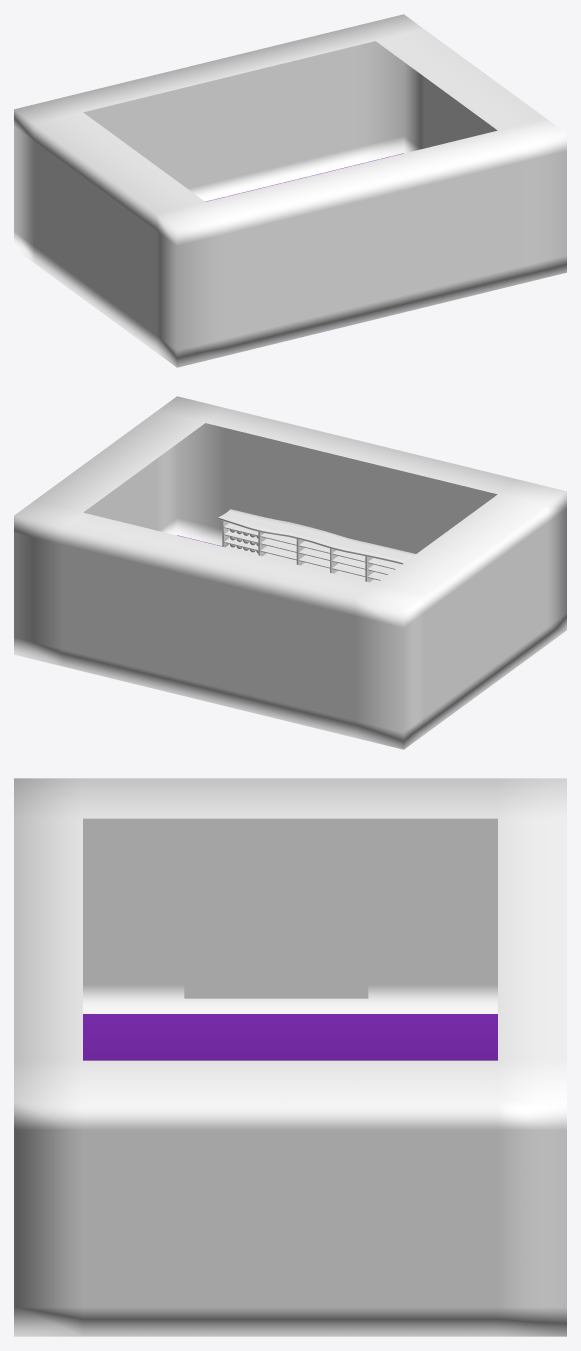
Rendered from gol_v3.glb.
The picture shows the model from 3 angles, top to bottom: view 1: azimuth 30°, elevation 25°; view 2: azimuth 150°, elevation 25°; view 3: azimuth 270°, elevation 25°; orthographic projection. The views are drawn at different scales.
Parts seen in each view (by area): view 1: Cube.020; view 2: Cube.020, Cube; view 3: Cube.020, Erkan.
Boxes of the visible parts, bbox=[...] form: Cube.020: bbox=[14, 14, 566, 367]; Cube.020: bbox=[14, 396, 566, 749]; Cube: bbox=[218, 509, 415, 583]; Cube.020: bbox=[14, 778, 566, 1336]; Erkan: bbox=[184, 824, 368, 998].
Bounding box in the file's own units: 15.86 × 6.29 × 11.5.
